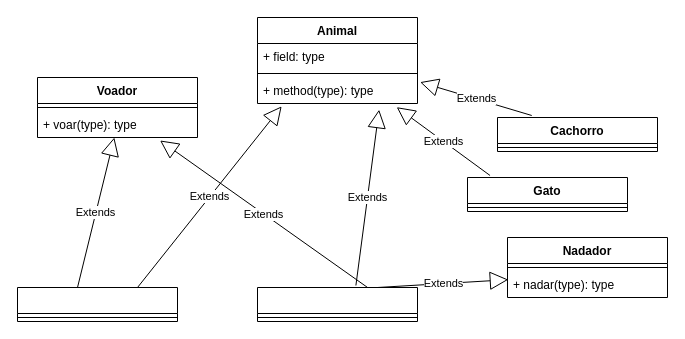
The diagram is 685 pixels wide and 339 high, and some of its shapes have lost their labels. The centre of each missing label's shape, as x and y in pixels:
"Beija flor" goes at (x=97, y=304).
"Pato" goes at (x=337, y=304).
